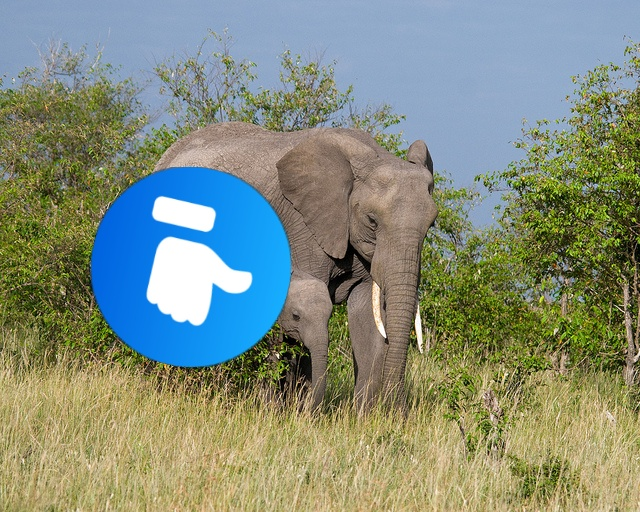like: (91, 167, 291, 367)
